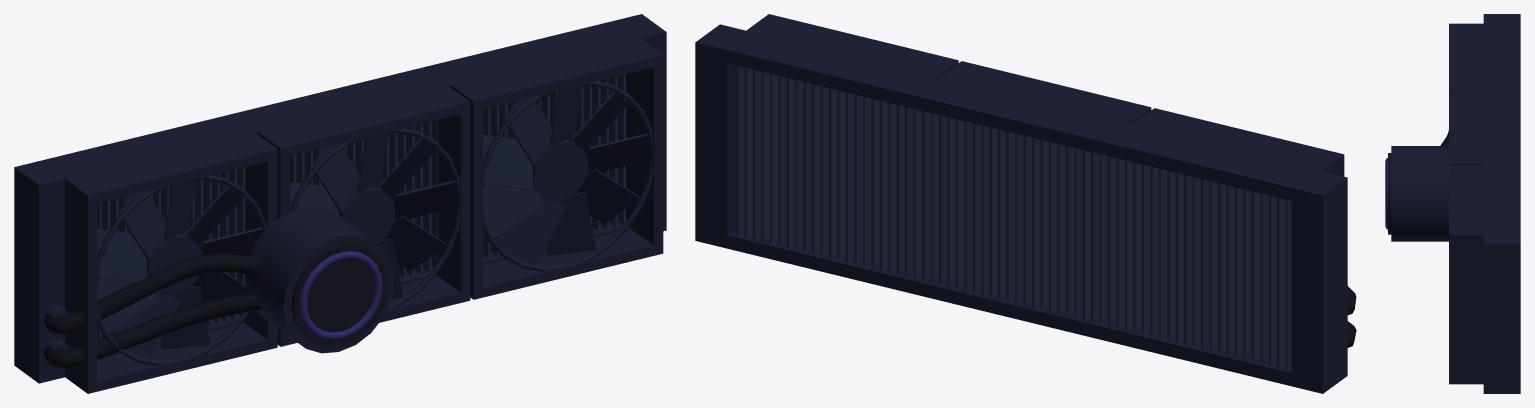
The model's file is cooler-aio-360.glb.
3 views of the same model, side by side, from view 1: azimuth 30°, elevation 25°; view 2: azimuth 150°, elevation 25°; view 3: azimuth 270°, elevation 25° (orthographic). The views are drawn at different scales.
Parts seen in each view (by area): view 1: radiator_frame, blades_3, fan_frame, fan_frame_2, blades_1, fan_frame_1, radiator_fins, blades_2, pump_body, pump_face, tube_2, tube_1 (+4 smaller); view 2: radiator_fins, radiator_frame, fan_frame, fan_frame_2, fan_frame_1; view 3: radiator_frame, fan_frame_2, pump_body, fan_frame, fan_frame_1, pump_face, pump_glow_ring.
Boxes of the visible parts, box(x1,y1,x2,y2) form: radiator_frame: box(14, 14, 666, 383); blades_3: box(483, 86, 647, 264); fan_frame: box(65, 132, 277, 393); fan_frame_2: box(450, 38, 663, 299); blades_1: box(97, 180, 262, 359); fan_frame_1: box(258, 85, 470, 346); radiator_fins: box(97, 74, 625, 340); blades_2: box(290, 133, 454, 298); pump_body: box(245, 207, 393, 353); pump_face: box(291, 243, 388, 346); tube_2: box(44, 253, 261, 334); tube_1: box(43, 293, 261, 368); radiator_fins: box(736, 65, 1291, 369); radiator_frame: box(695, 24, 1347, 393); fan_frame: box(1132, 108, 1344, 176); fan_frame_2: box(746, 14, 958, 77); fan_frame_1: box(939, 61, 1151, 124); radiator_frame: box(1483, 14, 1520, 393); fan_frame_2: box(1449, 165, 1483, 384); pump_body: box(1391, 146, 1448, 241); fan_frame: box(1449, 23, 1483, 94); fan_frame_1: box(1449, 94, 1483, 165); pump_face: box(1388, 153, 1391, 234); pump_glow_ring: box(1385, 158, 1387, 229).
Size of the model in its own units: 397 by 120 by 98.4.
